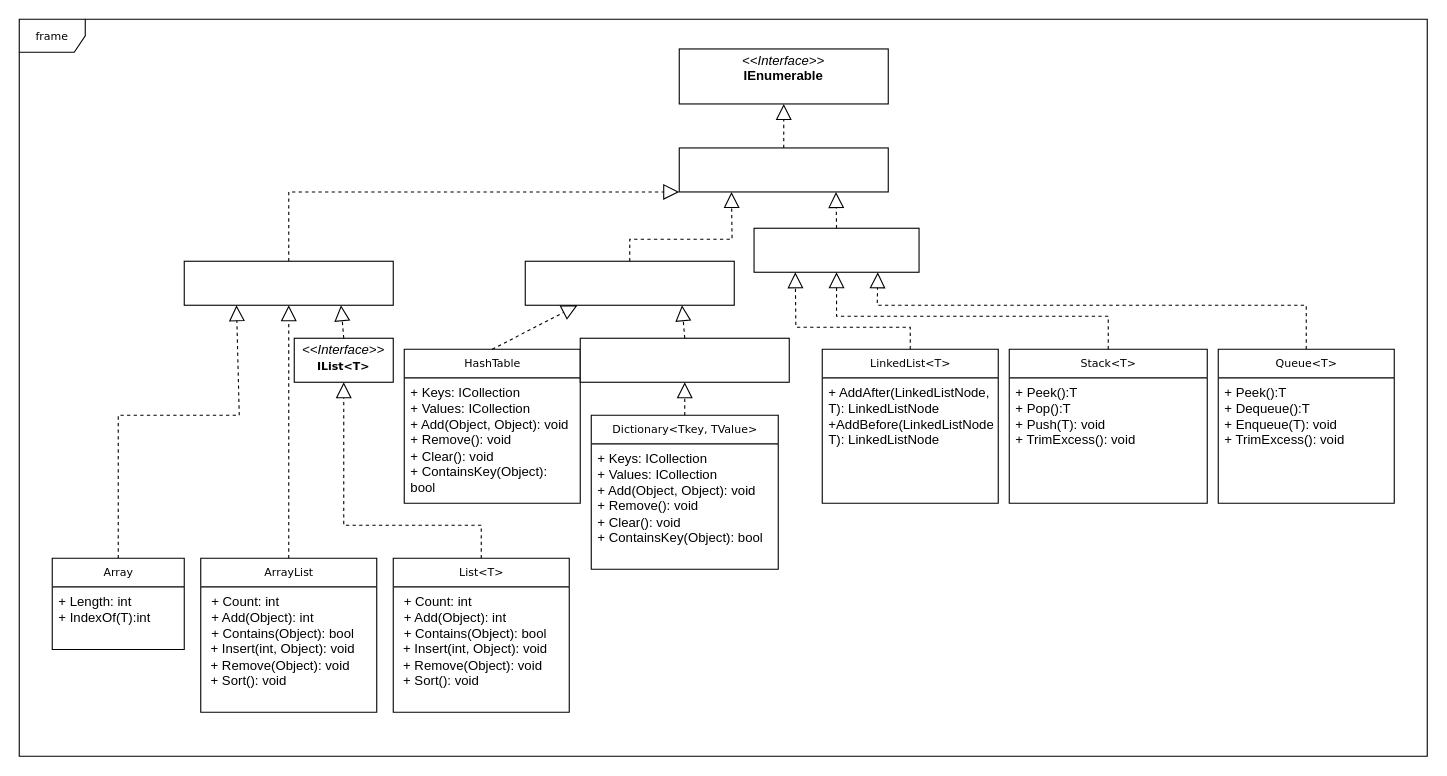
The diagram is 1447 pixels wide and 776 high, and some of its shapes have lost their labels. The shapes that lost their labels are listed below. From the top down, each one's centre as x and y in pixels, then its label:
At point (783, 169): "<<Interface>> ICollection".
At point (836, 249): "<<Interface>> ICollection<T>".
At point (288, 282): "<<Interface>> IList".
At point (629, 282): "<<Interface>> IDictionary".
At point (684, 359): "<<Interface>> IDictionary<TKey, TValue>".
